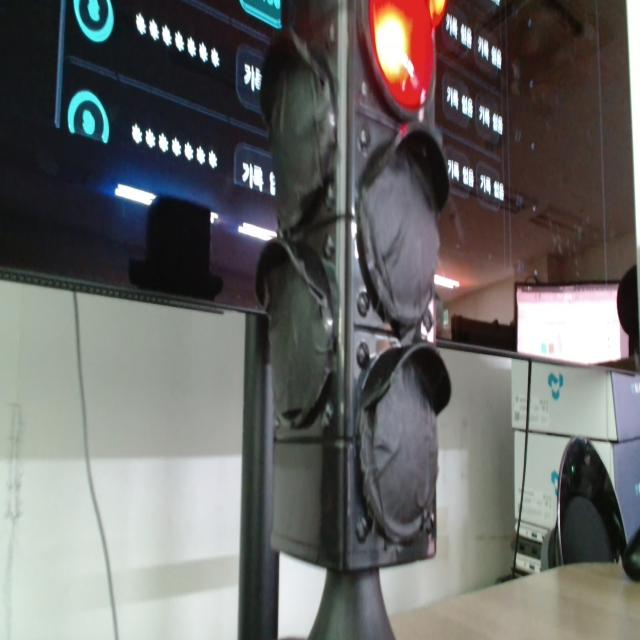green_light: (240, 0, 281, 29)
red_light: (369, 0, 434, 111), (429, 0, 446, 28)
